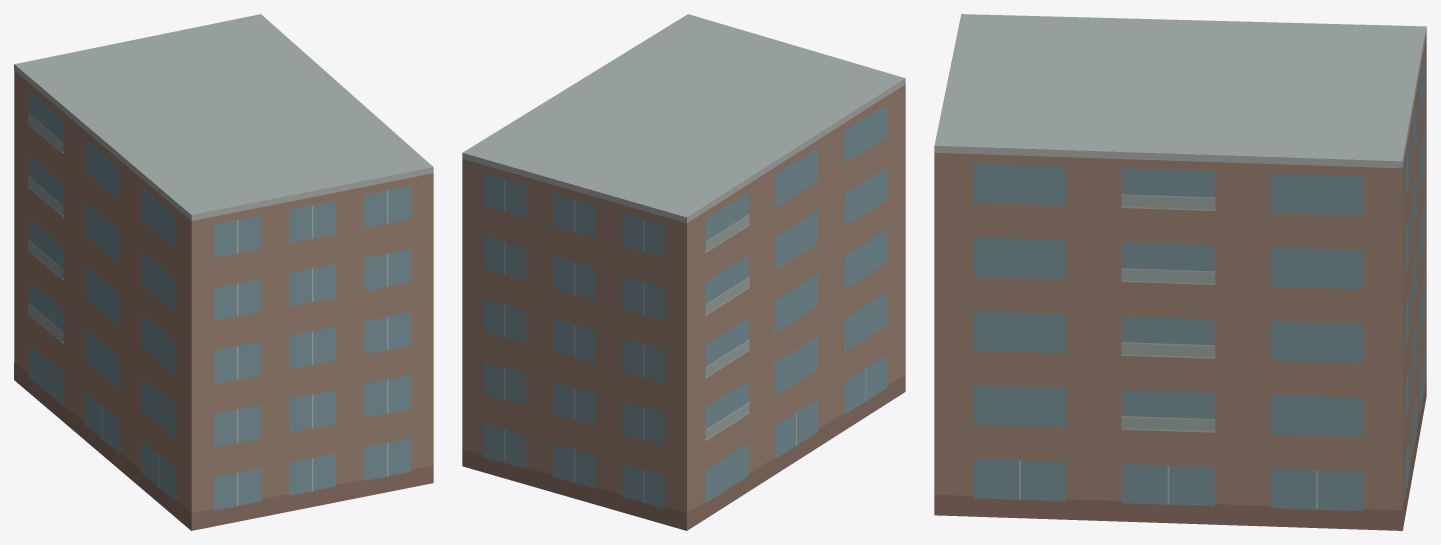
The model's file is survey-upis-32873155.glb.
3 views of the same model, side by side, from view 1: azimuth 30°, elevation 25°; view 2: azimuth 150°, elevation 25°; view 3: azimuth 270°, elevation 25° (orthographic). The views are drawn at different scales.
Visible parts, largest first — view 1: survey-upis-32873155.tmp; view 2: survey-upis-32873155.tmp; view 3: survey-upis-32873155.tmp.
Boxes of the visible parts, <box> form: survey-upis-32873155.tmp: <box>14,14,433,530</box>; survey-upis-32873155.tmp: <box>462,14,905,530</box>; survey-upis-32873155.tmp: <box>934,14,1426,530</box>.
Bounding box in the file's own units: 10.96 × 12.8 × 15.46.
